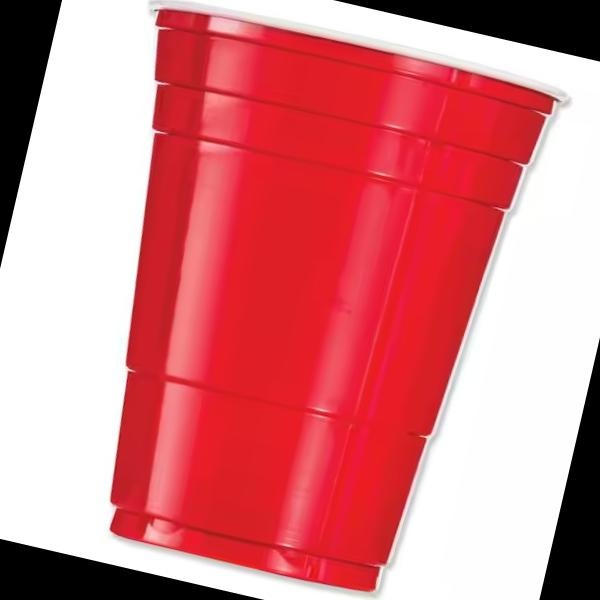Plastik: (111, 2, 563, 590)
